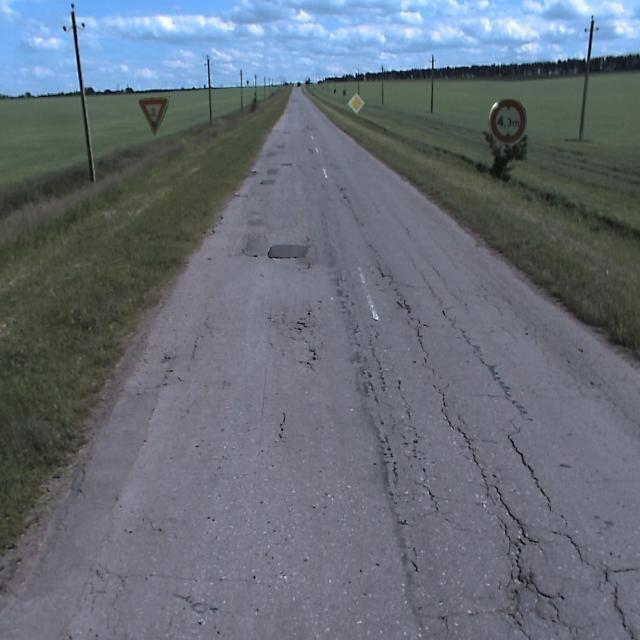road: (0, 94, 639, 639)
